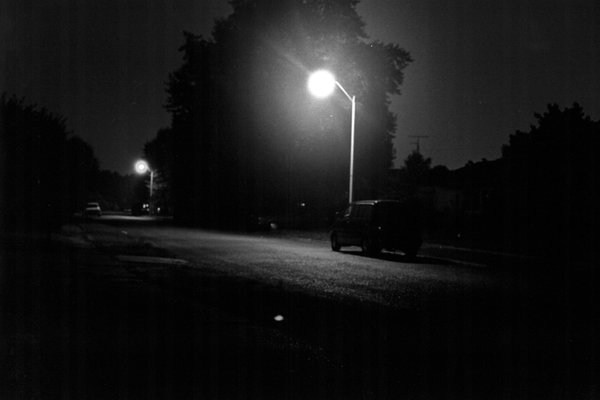car: (328, 196, 427, 264)
